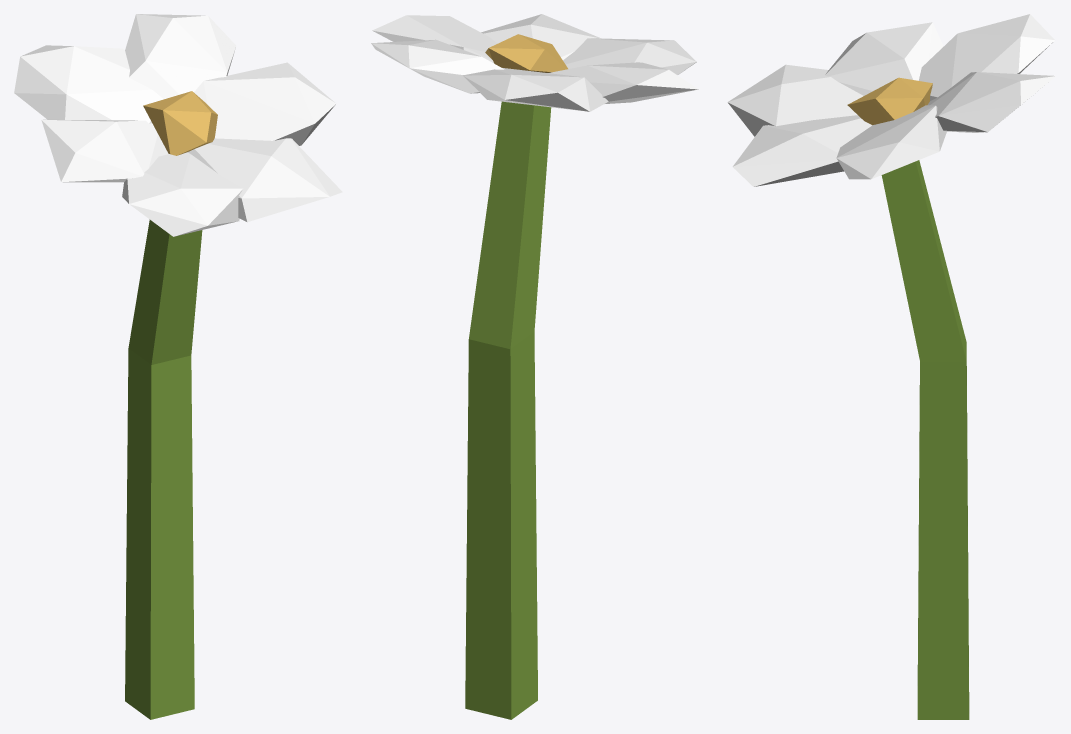
File: Flower_05.fbx
The picture shows the model from 3 angles, left to right: view 1: azimuth 30°, elevation 25°; view 2: azimuth 150°, elevation 25°; view 3: azimuth 270°, elevation 25°; orthographic projection. The views are drawn at different scales.
Parts seen in each view (by area): view 1: Flower_05; view 2: Flower_05; view 3: Flower_05.
Part boxes in pixels (x1,y1,x2,y2): Flower_05: [14, 14, 342, 719]; Flower_05: [371, 14, 698, 719]; Flower_05: [727, 14, 1055, 719].
Size of the model in its own units: 9.06 by 19.65 by 8.97.
